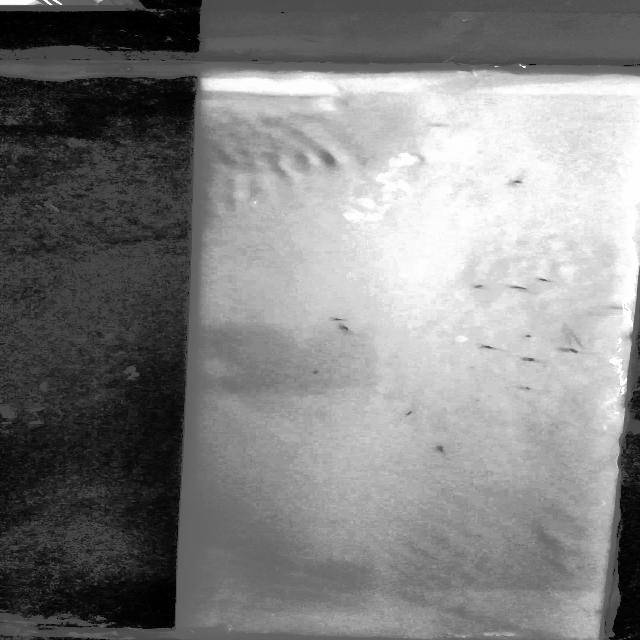shrimp: (556, 342, 590, 359), (388, 404, 422, 419), (500, 176, 533, 190), (463, 279, 493, 293), (508, 283, 534, 295), (435, 440, 451, 458), (514, 330, 538, 342), (479, 343, 508, 352), (322, 315, 350, 323), (333, 325, 354, 334), (526, 355, 540, 367), (533, 275, 551, 284), (518, 384, 533, 392)
